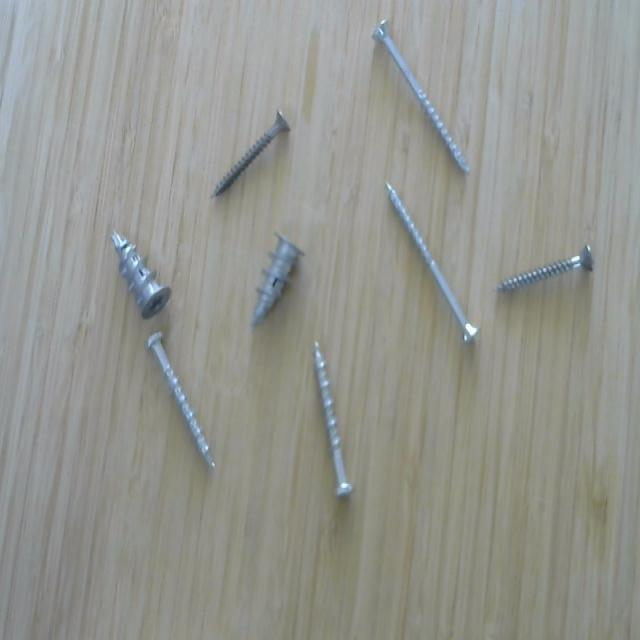Black screw: (204, 104, 297, 206), (493, 239, 605, 305)
Long screw: (374, 177, 483, 350), (368, 12, 474, 178)
Medium screw: (143, 328, 219, 474), (304, 332, 356, 510)
Short screw: (103, 225, 175, 321), (247, 222, 309, 332)
